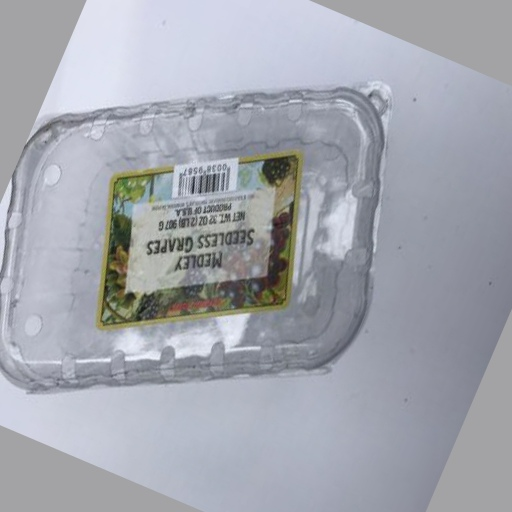Plastic_4: (2, 81, 394, 379)
